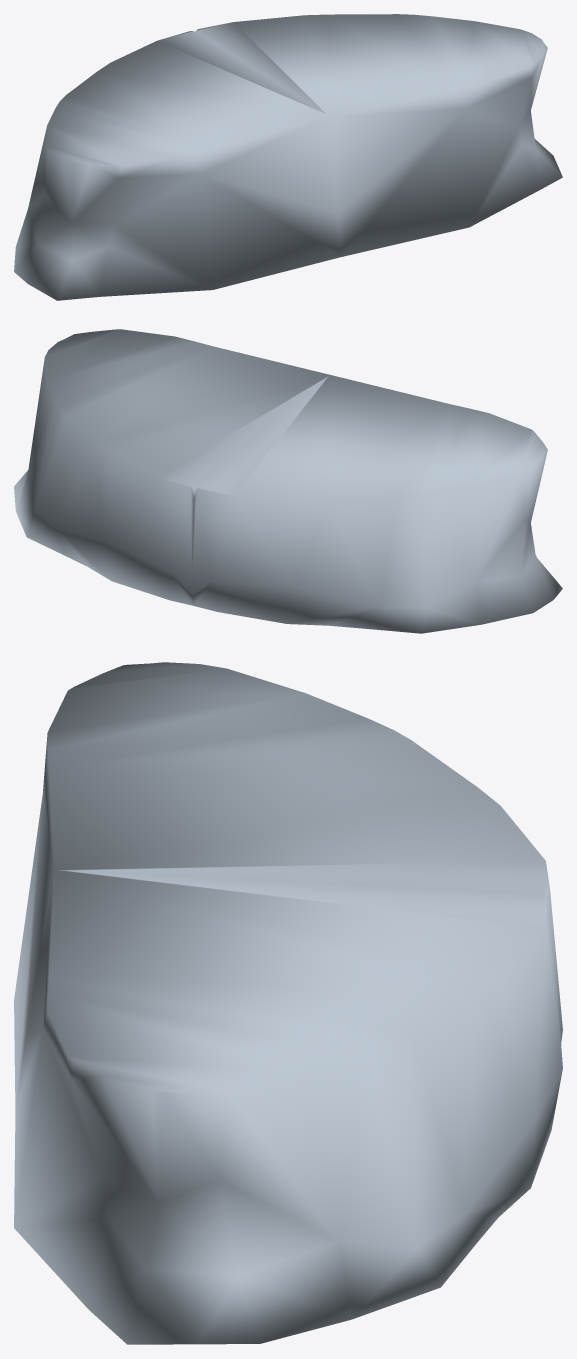
Rendered from sacrococcygeal-symphysis.glb.
3 renders of one model, top to bottom at view 1: azimuth 30°, elevation 25°; view 2: azimuth 150°, elevation 25°; view 3: azimuth 270°, elevation 25°, orthographic. The views are drawn at different scales.
Parts seen in each view (by area): view 1: Sacrococcygeal symphysis; view 2: Sacrococcygeal symphysis; view 3: Sacrococcygeal symphysis.
Part boxes in pixels (x1=…): Sacrococcygeal symphysis: x1=14, y1=14, x2=562, y2=300; Sacrococcygeal symphysis: x1=14, y1=329, x2=562, y2=633; Sacrococcygeal symphysis: x1=14, y1=662, x2=562, y2=1344.
Bounding box in the file's own units: 0.0215 × 0.00536 × 0.0107.
